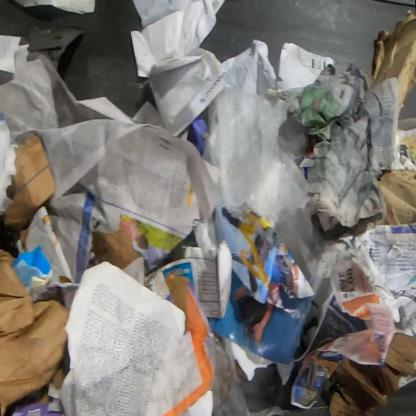cardboard: (0, 248, 71, 415), (327, 332, 416, 416), (2, 134, 57, 230), (171, 239, 233, 319), (372, 9, 415, 124), (377, 169, 415, 226), (91, 229, 142, 271), (165, 272, 191, 320)
soft_plastic: (203, 87, 310, 216)
